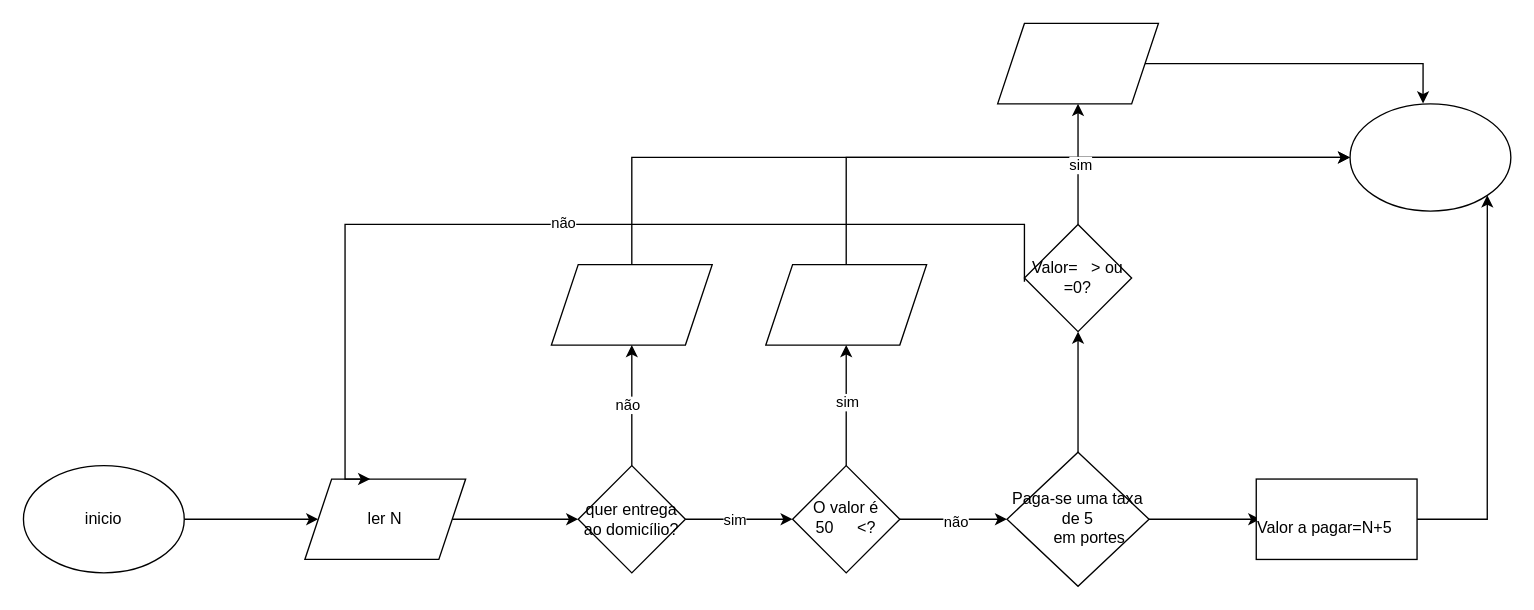
The diagram is 1534 pixels wide and 610 high, and some of its shapes have lost their labels. The shapes that lost their labels are listed below. From the top down, each one's centre as x and y in pixels, then its label:
At (x=1077, y=63): "Valor inválido".
At (x=1430, y=157): "fim".
At (x=631, y=304): "Não há custos extras".
At (x=845, y=304): "A entrega é gratis".
